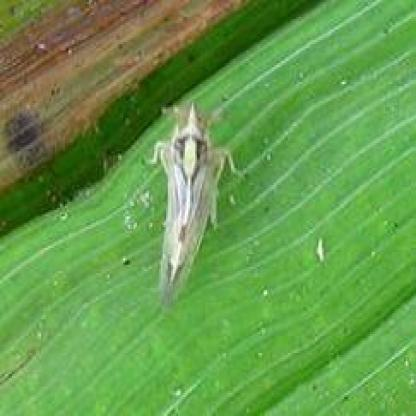brown-planthopper: (154, 114, 216, 307)
